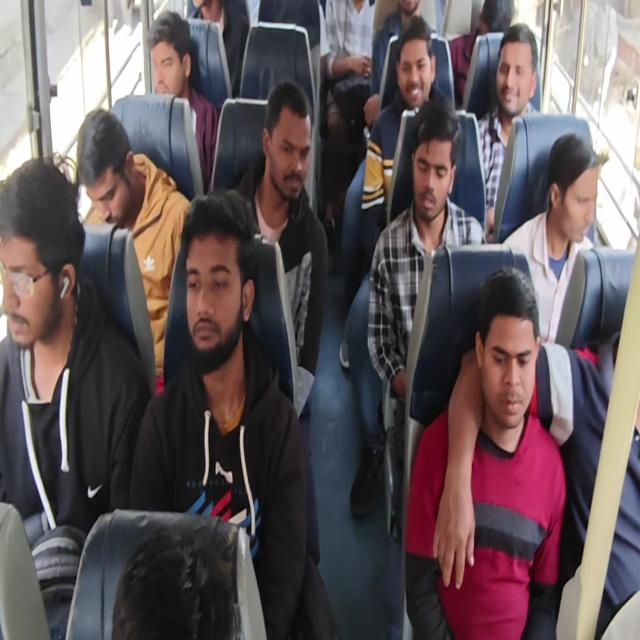person: (0, 161, 76, 350), (177, 200, 249, 353), (473, 280, 538, 427), (72, 116, 140, 238), (546, 136, 605, 248), (263, 89, 310, 198), (148, 18, 198, 115), (414, 116, 455, 222), (493, 34, 536, 118), (396, 36, 434, 108), (472, 0, 516, 42), (393, 0, 430, 29)
